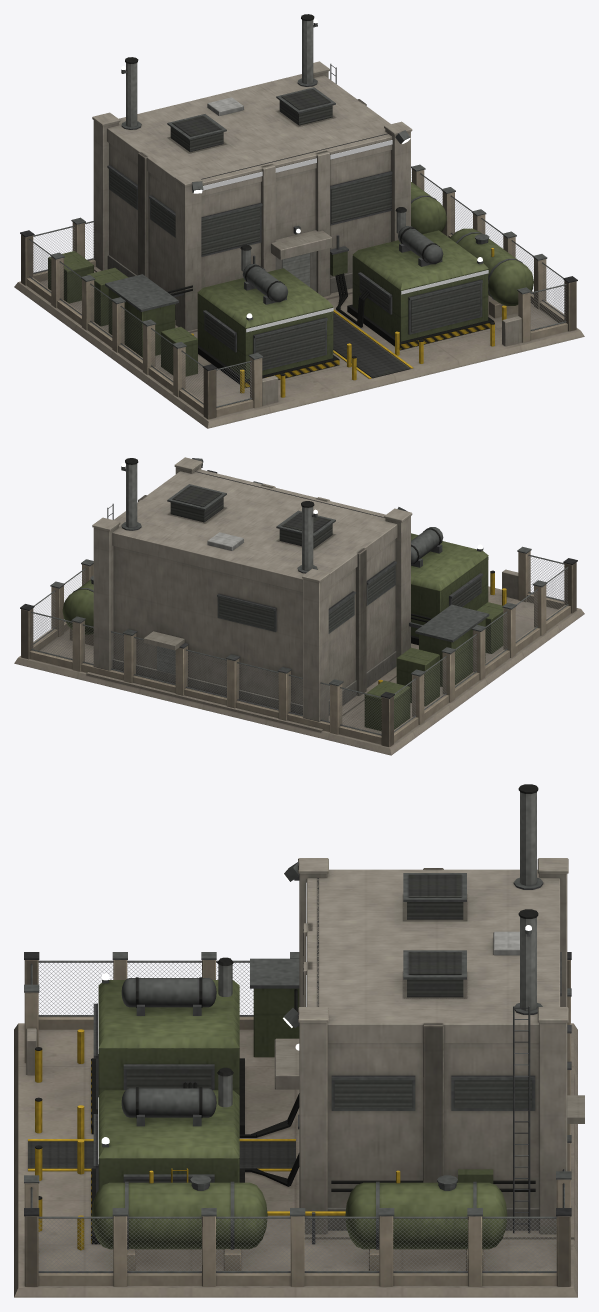
Rendered from power_plant.glb.
3 views of the same model, one above another, from view 1: azimuth 30°, elevation 25°; view 2: azimuth 150°, elevation 25°; view 3: azimuth 270°, elevation 25° (orthographic). The views are drawn at different scales.
Parts seen in each view (by area): view 1: Building, Props; view 2: Building, Props; view 3: Building, Props.
Boxes of the visible parts, x1,y1,x2,y2 form: Building: [14, 14, 584, 428]; Props: [20, 164, 577, 419]; Building: [14, 457, 584, 755]; Props: [20, 470, 577, 746]; Building: [14, 784, 584, 1297]; Props: [24, 952, 571, 1286].
Size of the model in its own units: 18 by 9.8 by 16.2.
10 materials, 2 textured.
